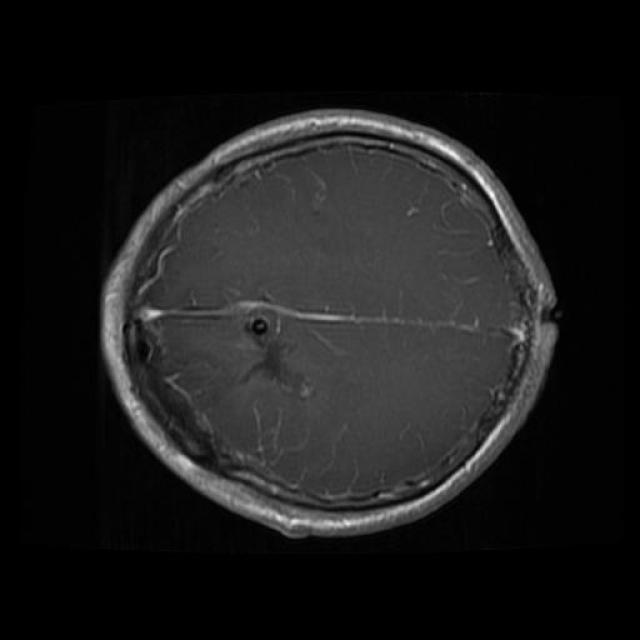Glioma: (245, 310, 303, 389)
